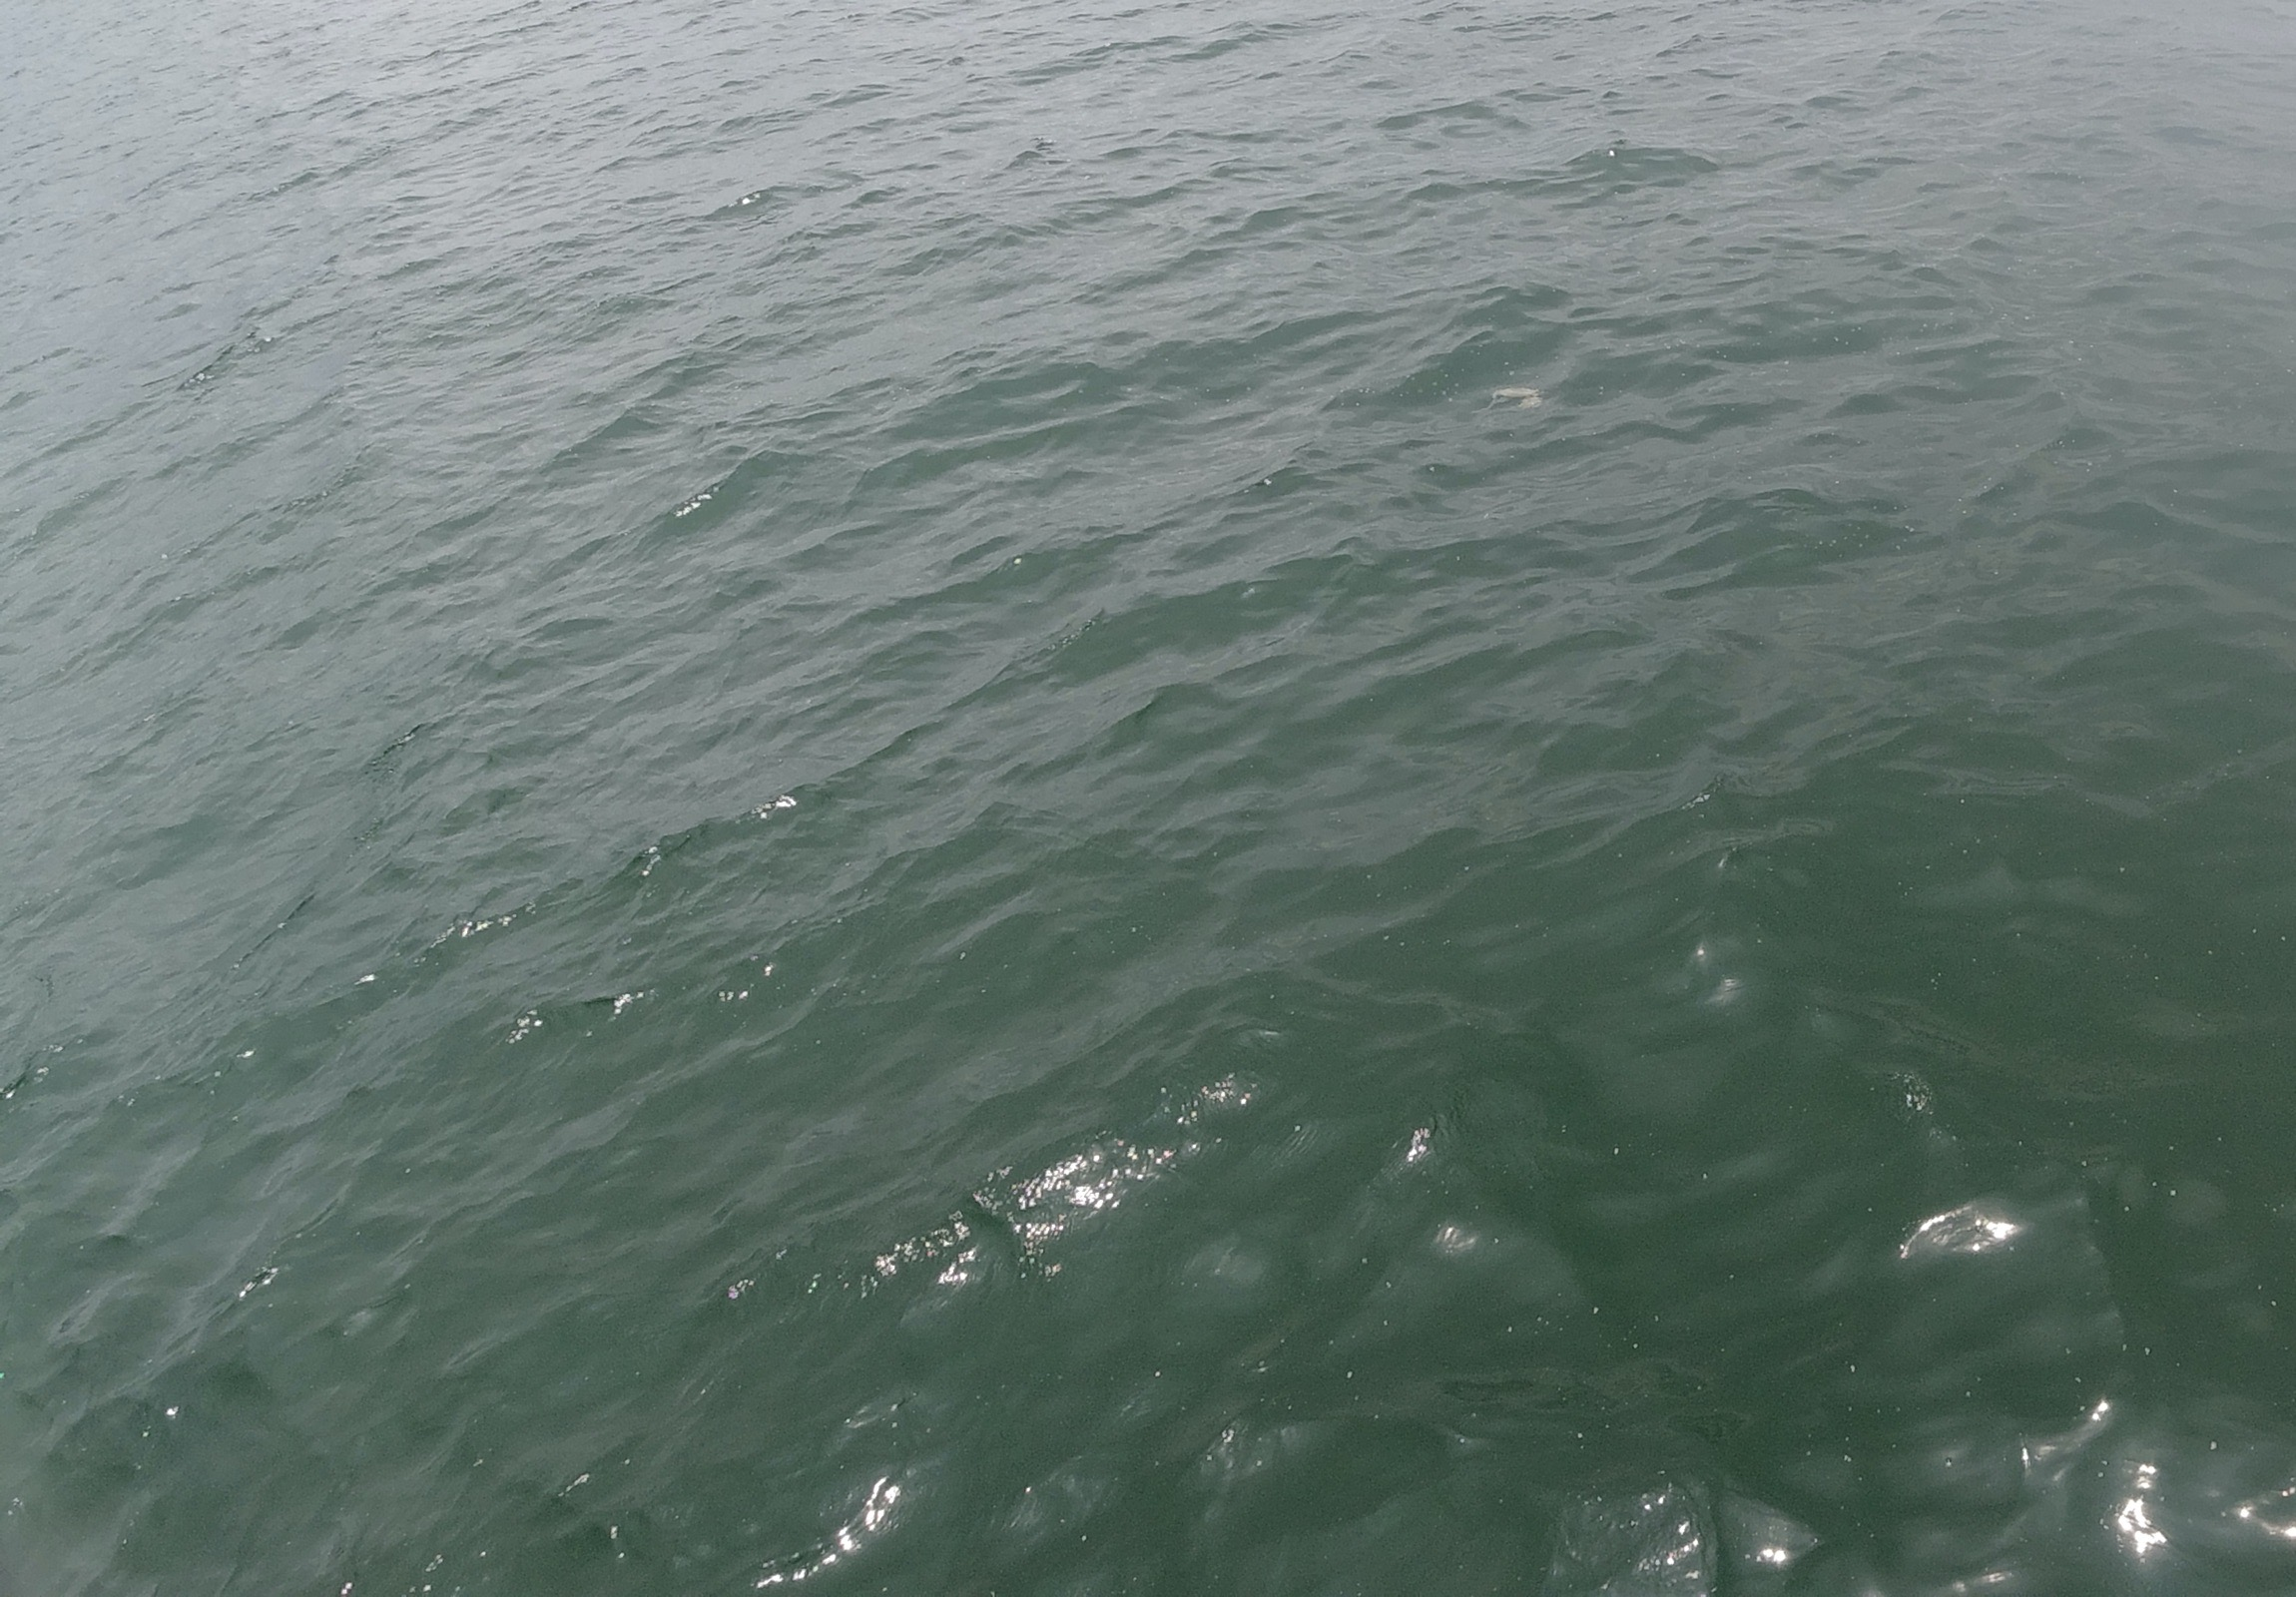plastic: (1467, 380, 1549, 421)
